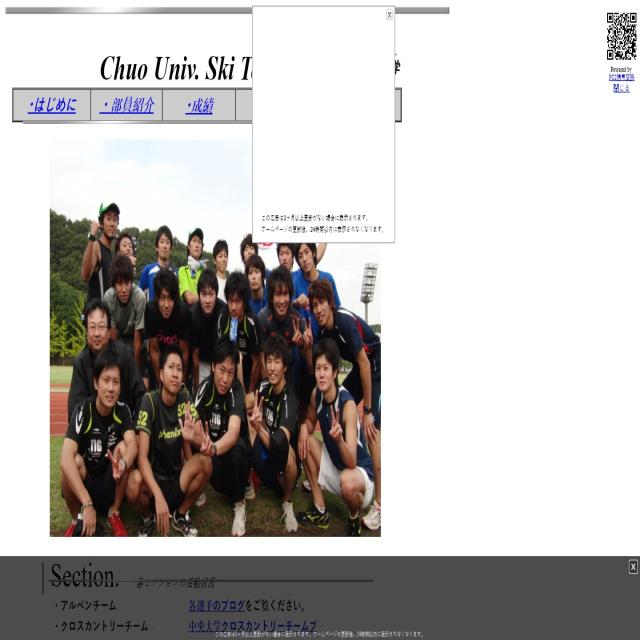button: (14, 86, 90, 122), (91, 90, 161, 122), (165, 90, 234, 122)
heading: (94, 49, 400, 84), (48, 558, 122, 591)
image: (50, 143, 382, 534)
text: (49, 588, 341, 640)
